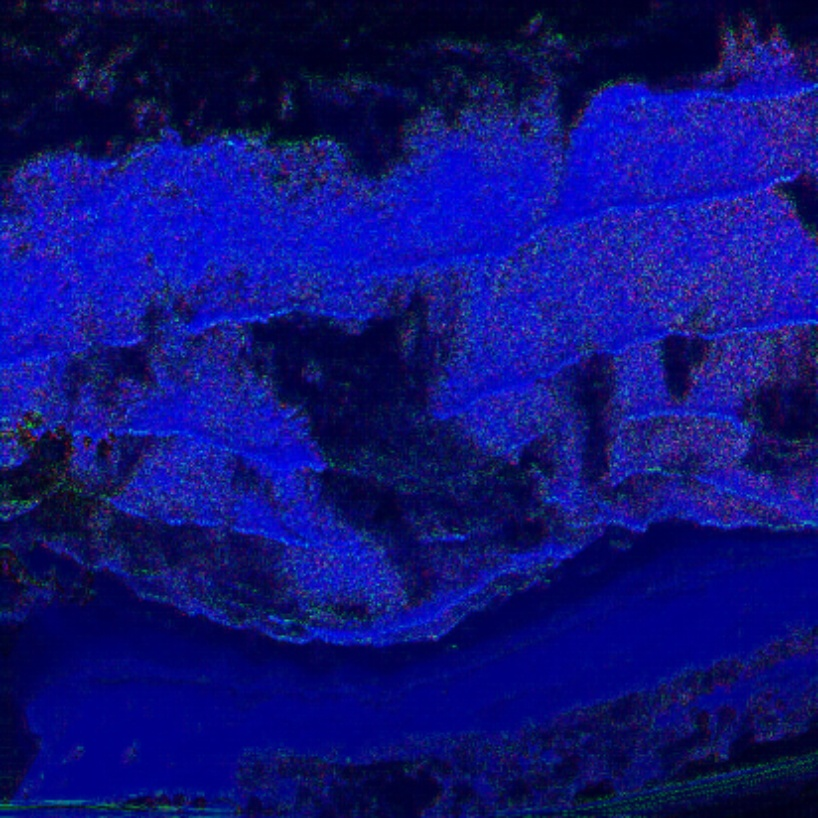rip_current: (181, 225, 552, 581)
